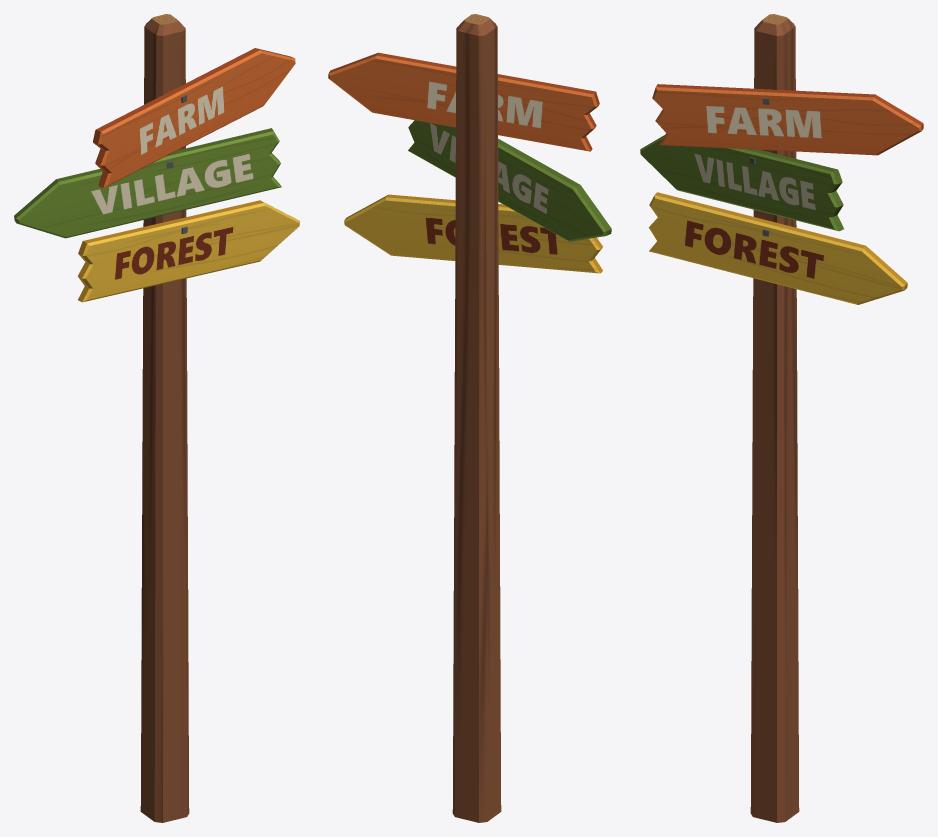
The model's file is FMS_Deco_Signpost_Arrows.fbx.
The picture shows the model from 3 angles, left to right: view 1: azimuth 30°, elevation 25°; view 2: azimuth 150°, elevation 25°; view 3: azimuth 330°, elevation 25°; orthographic projection.
Parts seen in each view (by area): view 1: item_decor_signpost_arrows; view 2: item_decor_signpost_arrows; view 3: item_decor_signpost_arrows.
Part boxes in pixels (box(x1,y1,x2,y2)): item_decor_signpost_arrows: box(14, 14, 299, 822); item_decor_signpost_arrows: box(328, 14, 611, 822); item_decor_signpost_arrows: box(640, 14, 923, 822).
Bounding box in the file's own units: 0.8145 × 2.2 × 0.2073.
